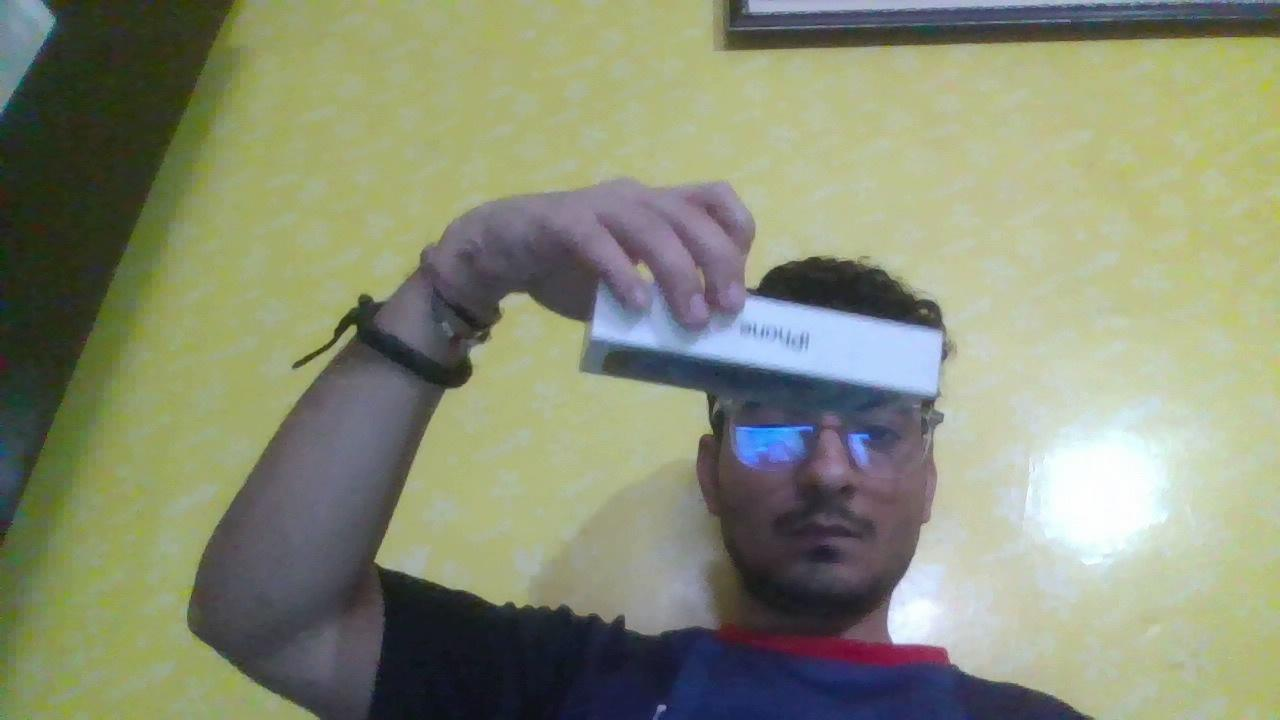Phone: (577, 256, 966, 431)
